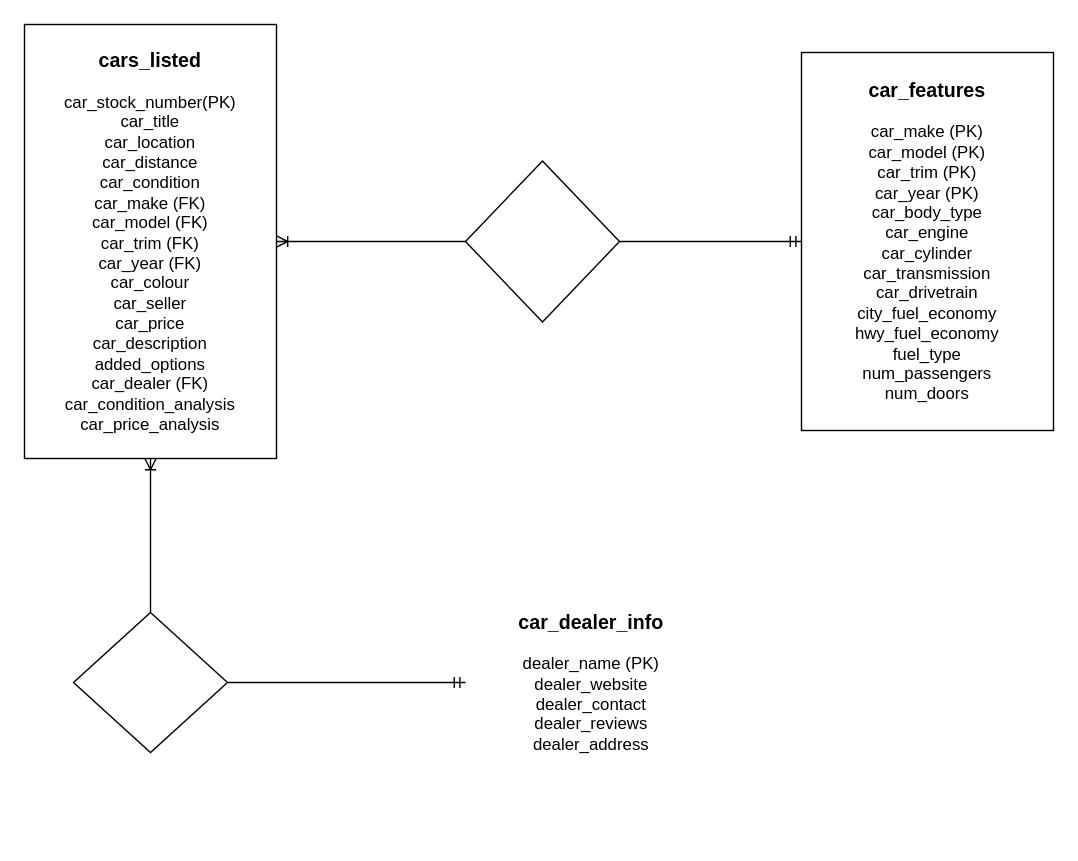
Image size: 1078x861. Some labels were removed from this diagram. The shapes that lost their labels are listed below. From the top down, each one's centre as x and y in pixels, then its label:
[542,241]: has_features
[149,681]: sold_by
